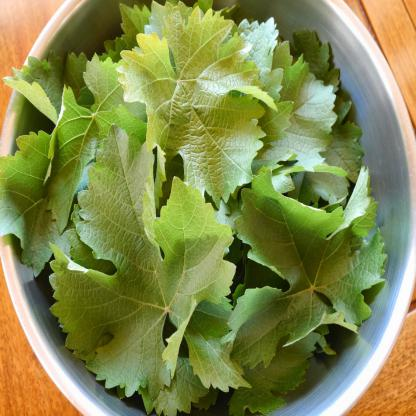grape leaf: (52, 131, 231, 386), (240, 164, 391, 351), (129, 11, 258, 189)
